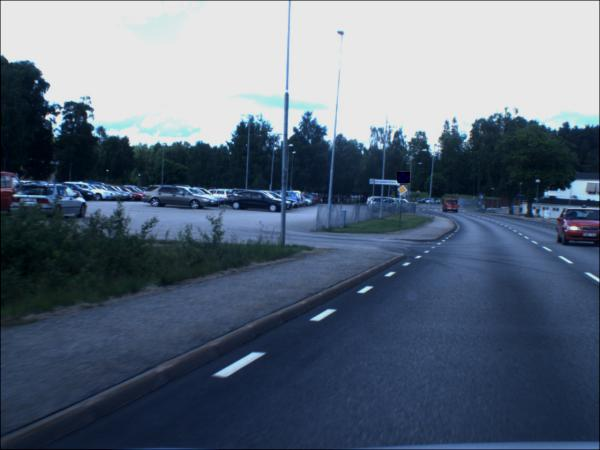GIVE_WAY: (416, 192, 421, 195)
NO_STOPPING_NO_STANDING: (397, 173, 411, 185)
PASS_RIGHT_SIDE: (416, 195, 420, 199)
PRIORITY_ROAD: (397, 186, 409, 197)
